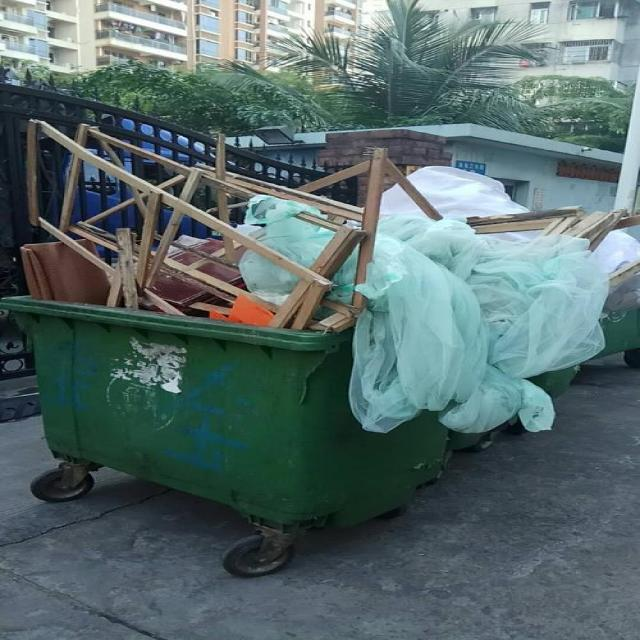overflow: (5, 119, 639, 529)
